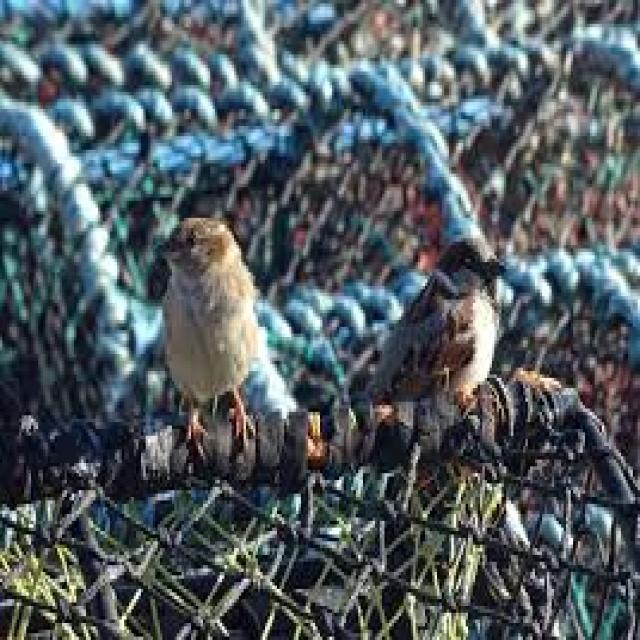bird: (153, 213, 269, 451)
